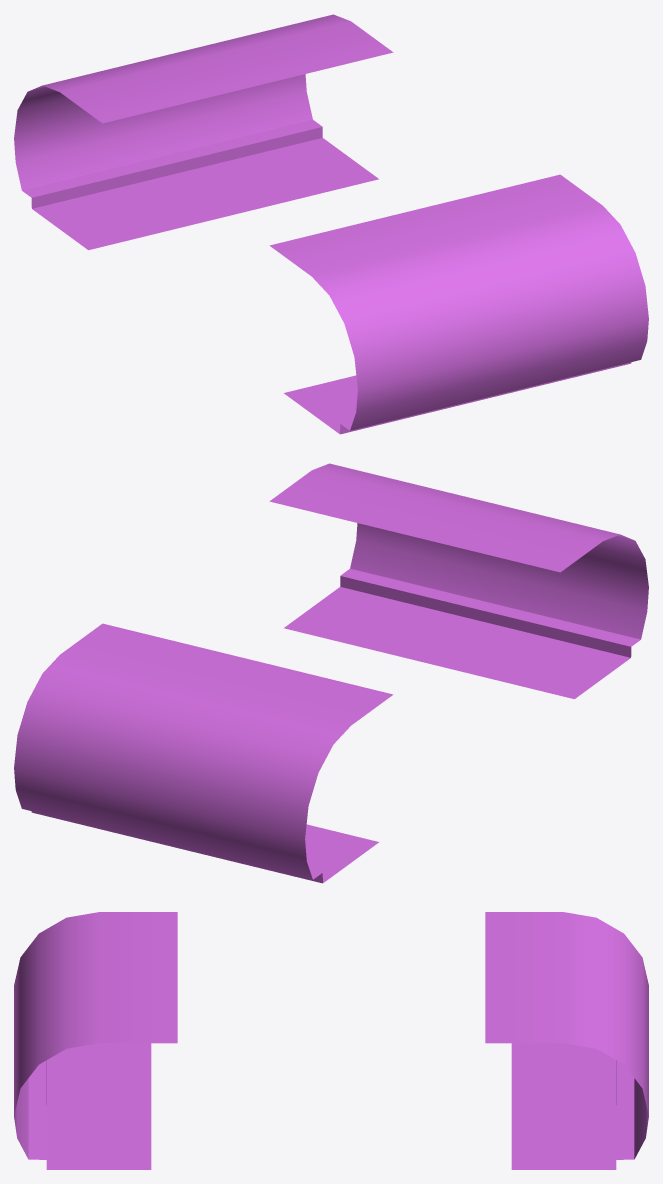
Rendered from PlatformTunnels.fbx.
3 renders of one model, top to bottom at view 1: azimuth 30°, elevation 25°; view 2: azimuth 150°, elevation 25°; view 3: azimuth 270°, elevation 25°, orthographic. The views are drawn at different scales.
Parts seen in each view (by area): view 1: Tunnelplatform; view 2: Tunnelplatform; view 3: Tunnelplatform.
Boxes of the visible parts, x1,y1,x2,y2 form: Tunnelplatform: (14,14,648,434); Tunnelplatform: (14,463,648,883); Tunnelplatform: (14,912,648,1169).
Bounding box in the file's own units: 10 × 4.5 × 20.46.
